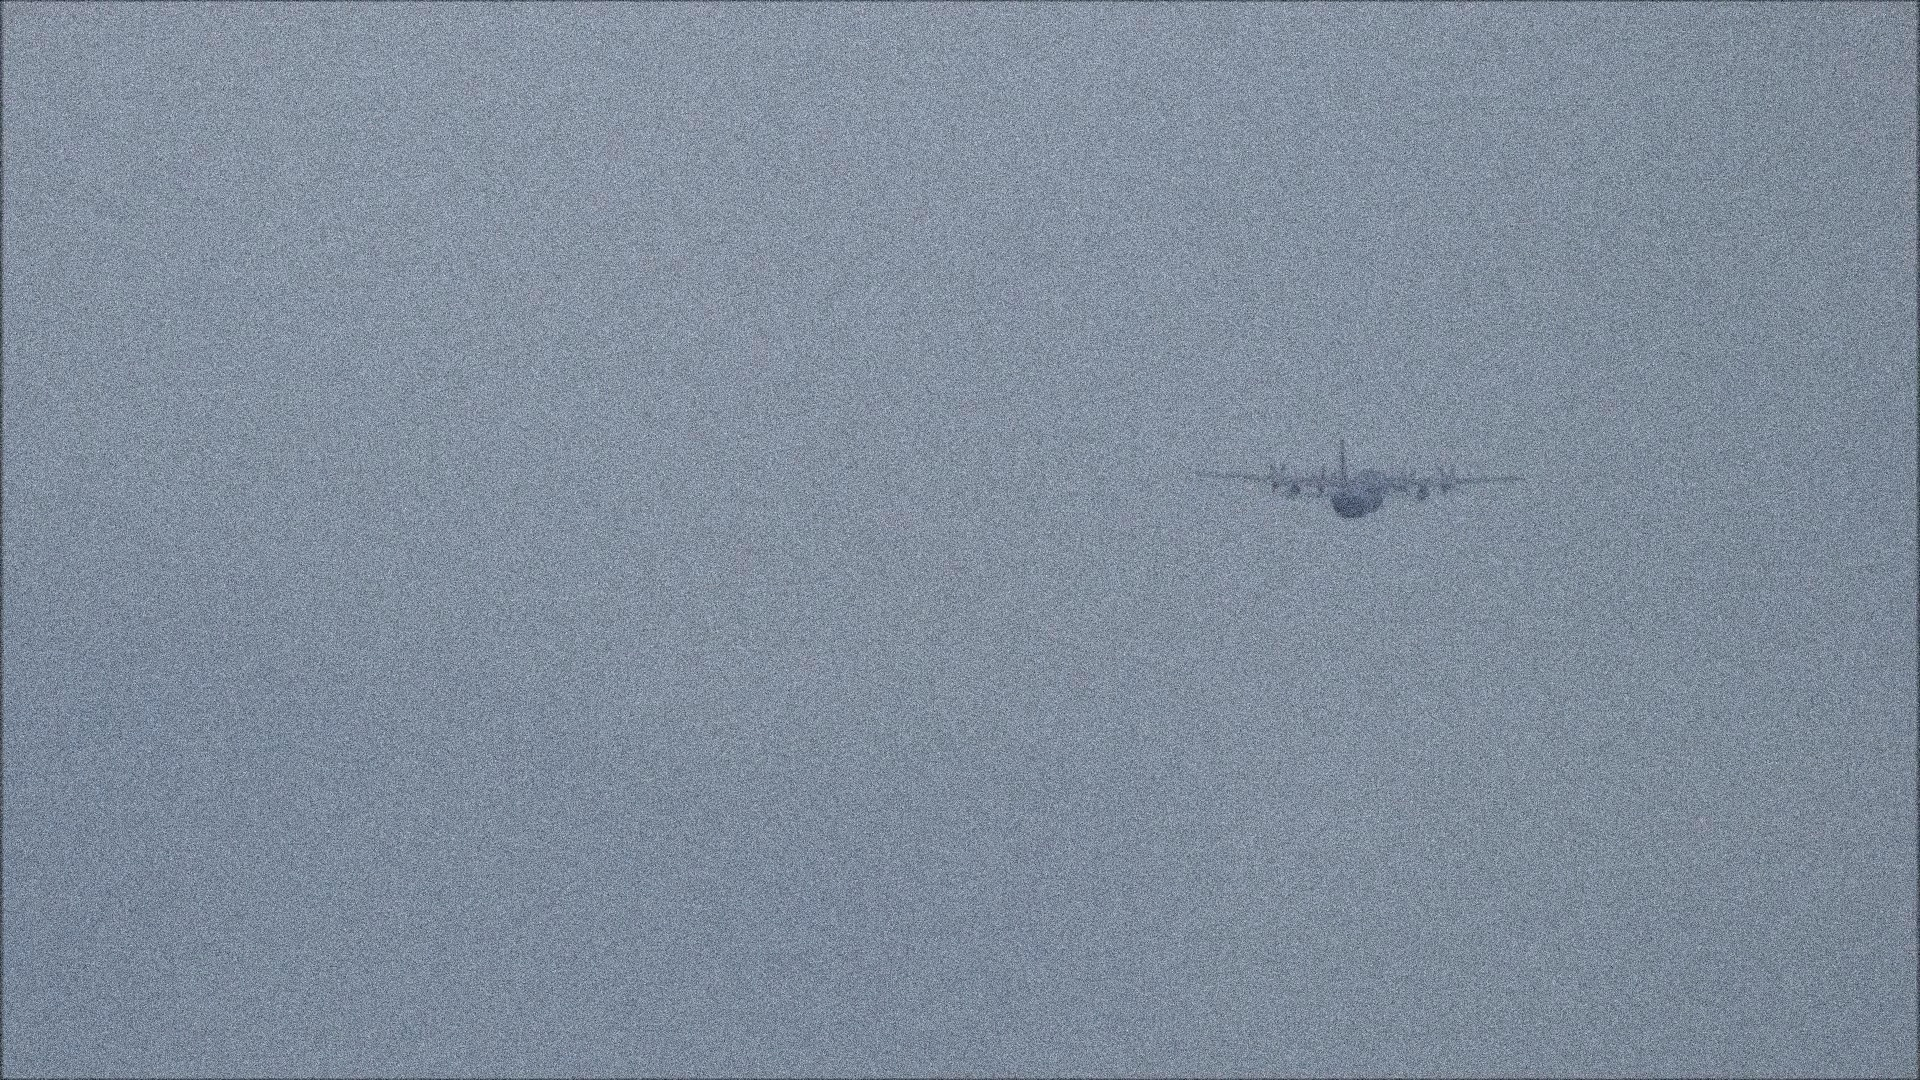Airplane: (1211, 440, 1531, 520)
